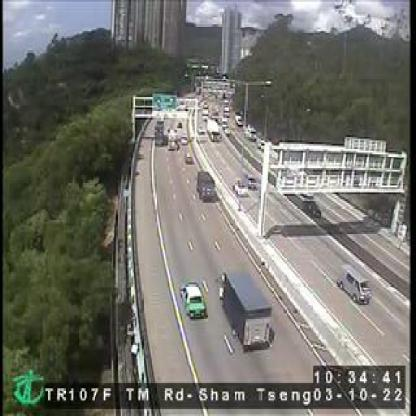Car: (336, 262, 370, 302), (178, 282, 208, 319), (302, 199, 321, 217), (231, 178, 247, 196), (243, 173, 257, 191), (198, 127, 206, 142), (180, 133, 188, 144), (184, 151, 192, 161)
Truck: (217, 272, 269, 347), (196, 172, 216, 199), (204, 118, 218, 142), (152, 119, 163, 146), (166, 128, 180, 149)
